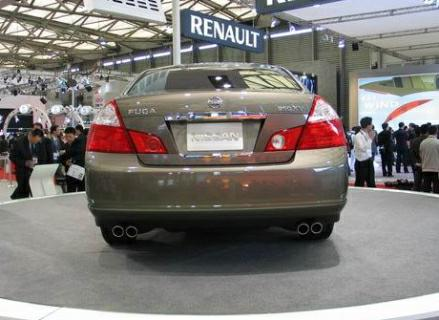日产-风雅: (81, 60, 352, 247)
